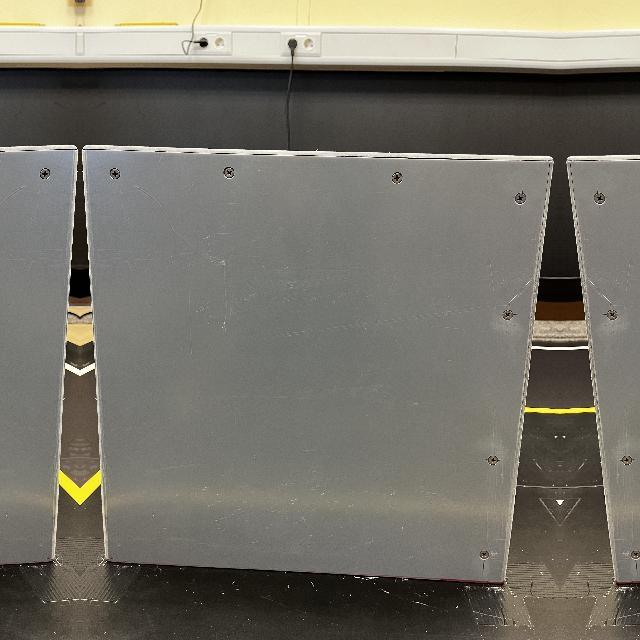obstacle: (81, 142, 552, 588), (0, 141, 78, 588), (567, 141, 640, 588)
